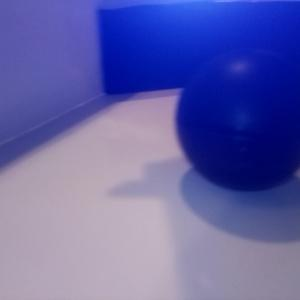dead_ball: (176, 49, 300, 191)
